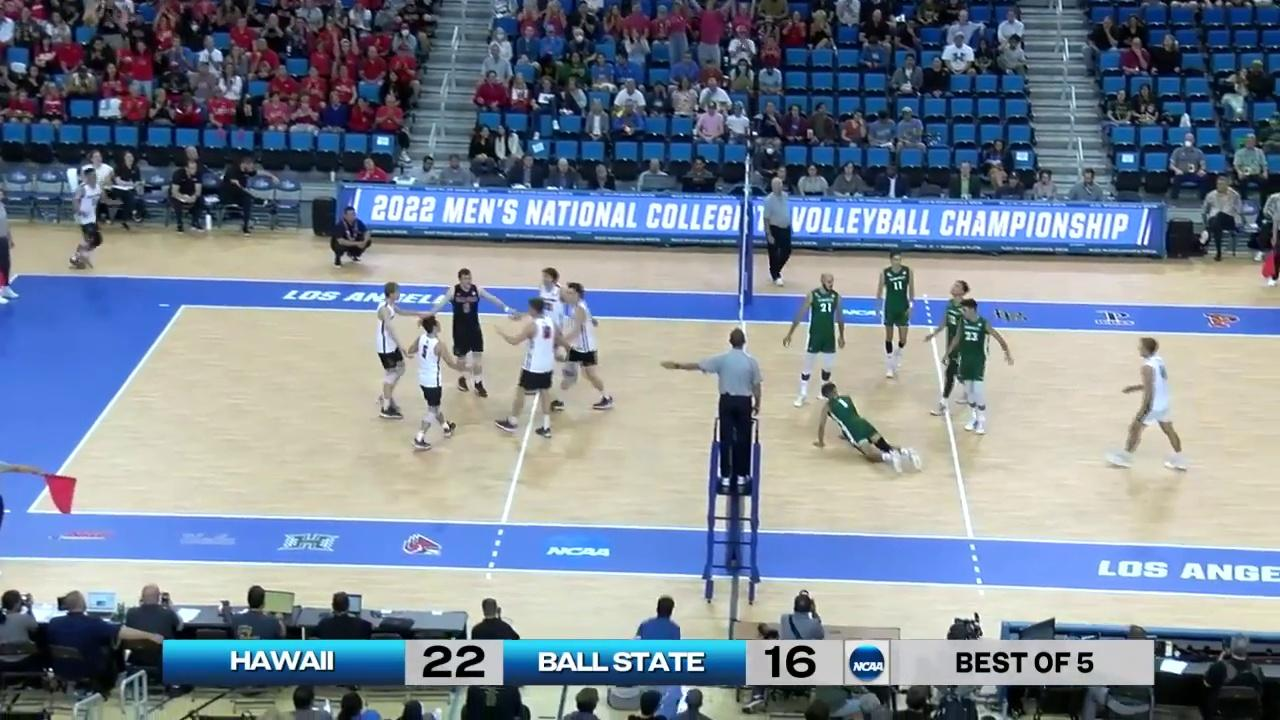player: (1108, 338, 1193, 472), (812, 384, 921, 472), (788, 271, 848, 405), (503, 296, 560, 437), (554, 284, 613, 416), (440, 270, 499, 398), (952, 300, 1006, 436), (408, 317, 458, 450), (937, 279, 980, 414), (532, 268, 578, 391), (370, 282, 408, 421), (877, 253, 916, 376)
refree: (701, 330, 761, 485), (761, 176, 793, 284)
